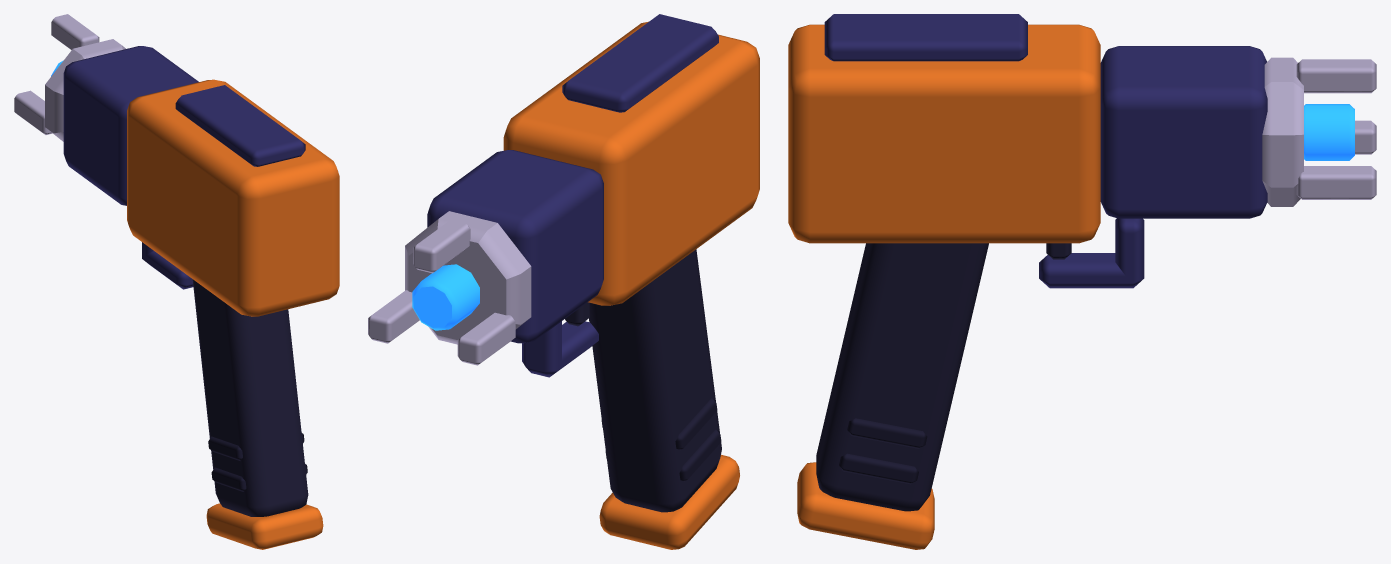
File: repair_tool.glb
3 renders of one model, left to right at view 1: azimuth 30°, elevation 25°; view 2: azimuth 150°, elevation 25°; view 3: azimuth 270°, elevation 25°, orthographic. The views are drawn at different scales.
Visible parts, largest first — view 1: item.repair_tool.body, part.emitter; view 2: item.repair_tool.body, part.emitter; view 3: item.repair_tool.body, part.emitter.
Part boxes in pixels (x1=…): item.repair_tool.body: x1=63, y1=46, x2=339, y2=549; part.emitter: x1=14, y1=14, x2=125, y2=141; item.repair_tool.body: x1=427, y1=14, x2=759, y2=549; part.emitter: x1=368, y1=211, x2=531, y2=365; item.repair_tool.body: x1=788, y1=14, x2=1267, y2=549; part.emitter: x1=1262, y1=57, x2=1376, y2=206.
Size of the model in its own units: 0.125 by 0.4814 by 0.5063.
